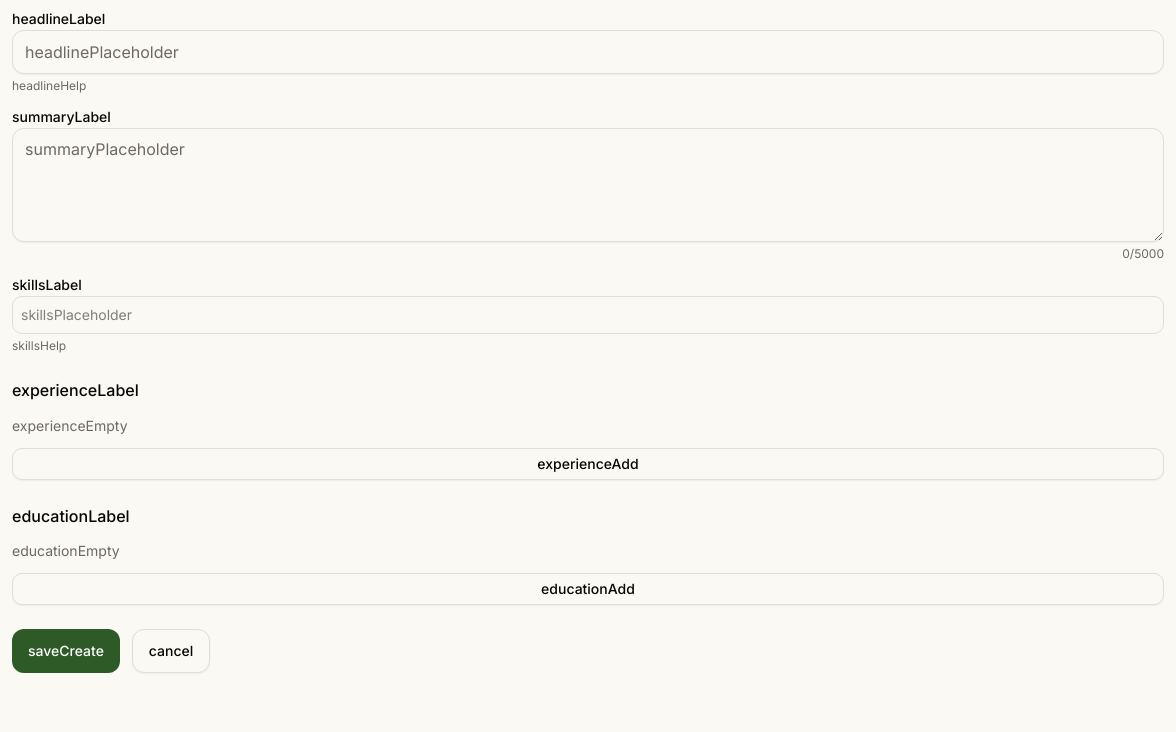
Test: SeekerProfileForm › remove experience row
This screenshot has width=1176, height=732.
# Add a row first
Click the button "experienceAdd".
click(588, 464)  # box [12,448,1164,480]
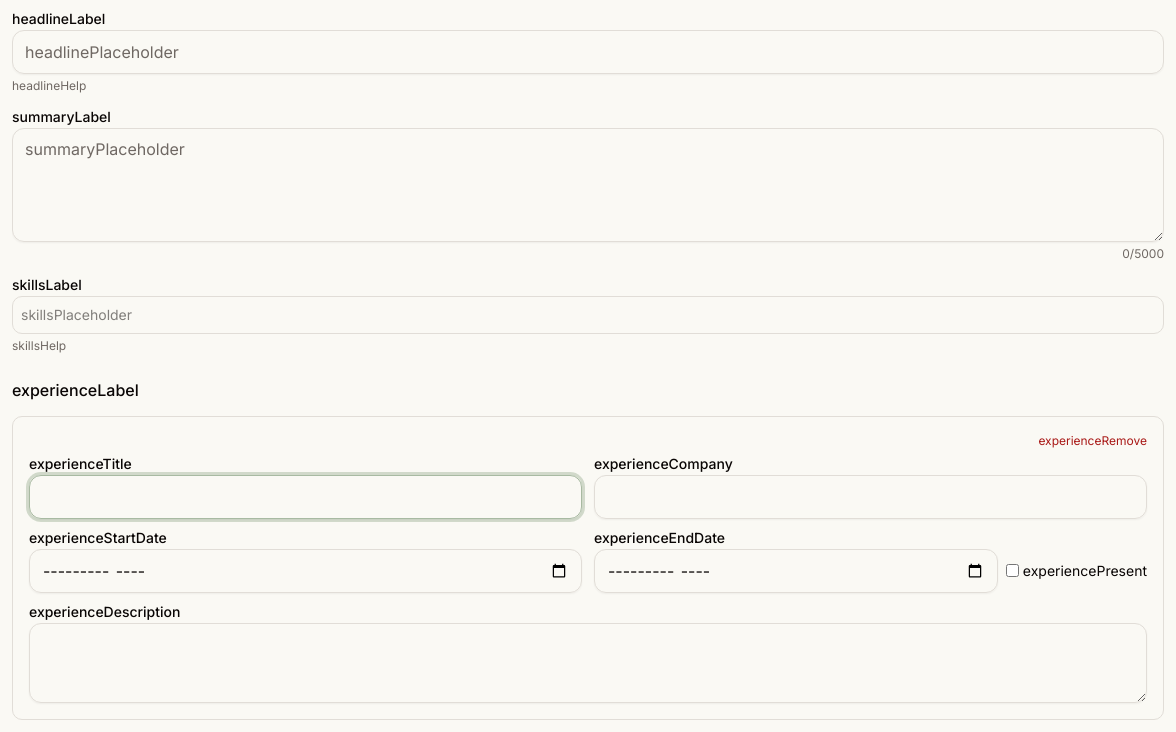
# Remove it
Click the button "experienceRemove".
click(1093, 441)  # box [1038,433,1147,449]
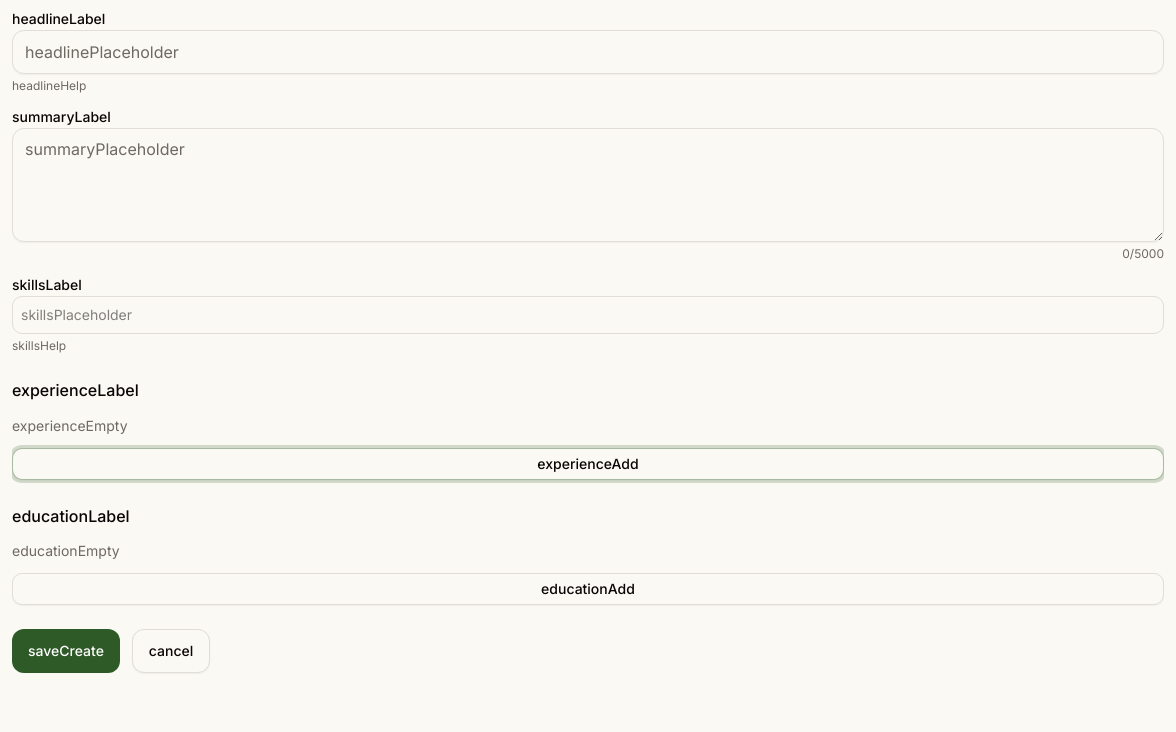
Now the label labelled "experienceTitle" is gone
